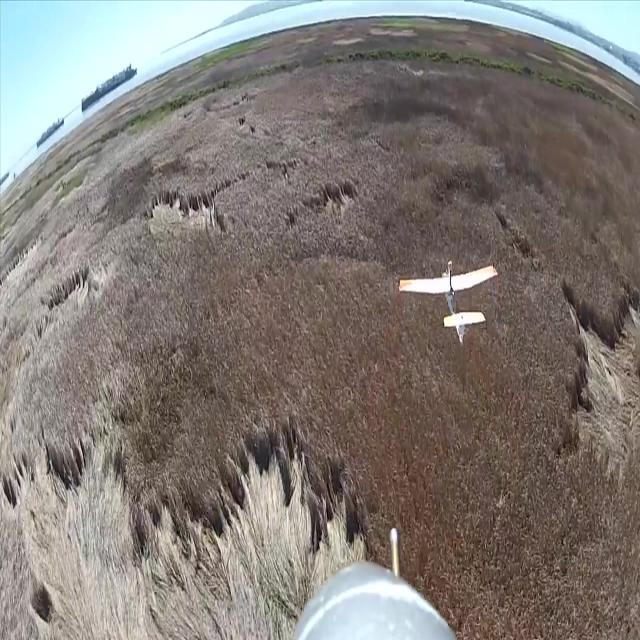iha: (430, 288, 467, 311)
